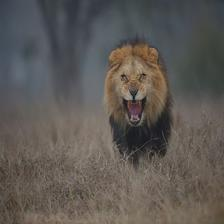lions: (75, 24, 220, 193)
